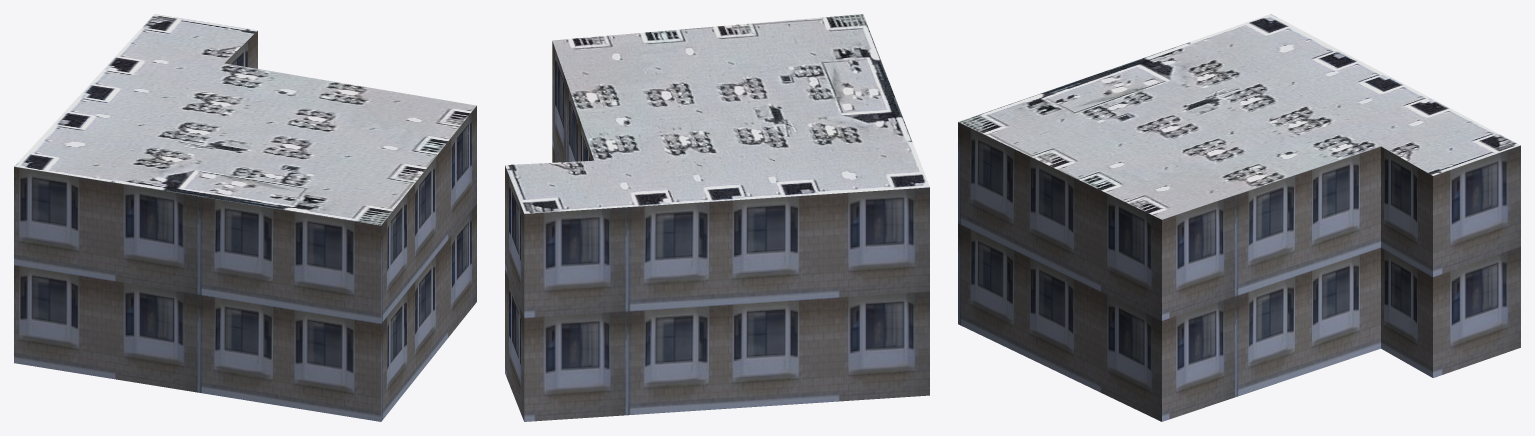
The model's file is ResTex__13.fbx.
3 renders of one model, left to right at view 1: azimuth 30°, elevation 25°; view 2: azimuth 150°, elevation 25°; view 3: azimuth 270°, elevation 25°, orthographic. The views are drawn at different scales.
Parts seen in each view (by area): view 1: CityEngineMaterial_3_m, CityEngineMaterial_8_m; view 2: CityEngineMaterial_3_m, CityEngineMaterial_8_m; view 3: CityEngineMaterial_3_m, CityEngineMaterial_8_m.
Part boxes in pixels (<box>): CityEngineMaterial_3_m: <box>14,31,476,421</box>; CityEngineMaterial_8_m: <box>14,14,476,225</box>; CityEngineMaterial_3_m: <box>505,41,929,421</box>; CityEngineMaterial_8_m: <box>505,14,929,213</box>; CityEngineMaterial_3_m: <box>958,122,1520,421</box>; CityEngineMaterial_8_m: <box>958,14,1520,219</box>.
Size of the model in its own units: 13.09 by 6 by 15.13.
2 materials, 2 textured.
